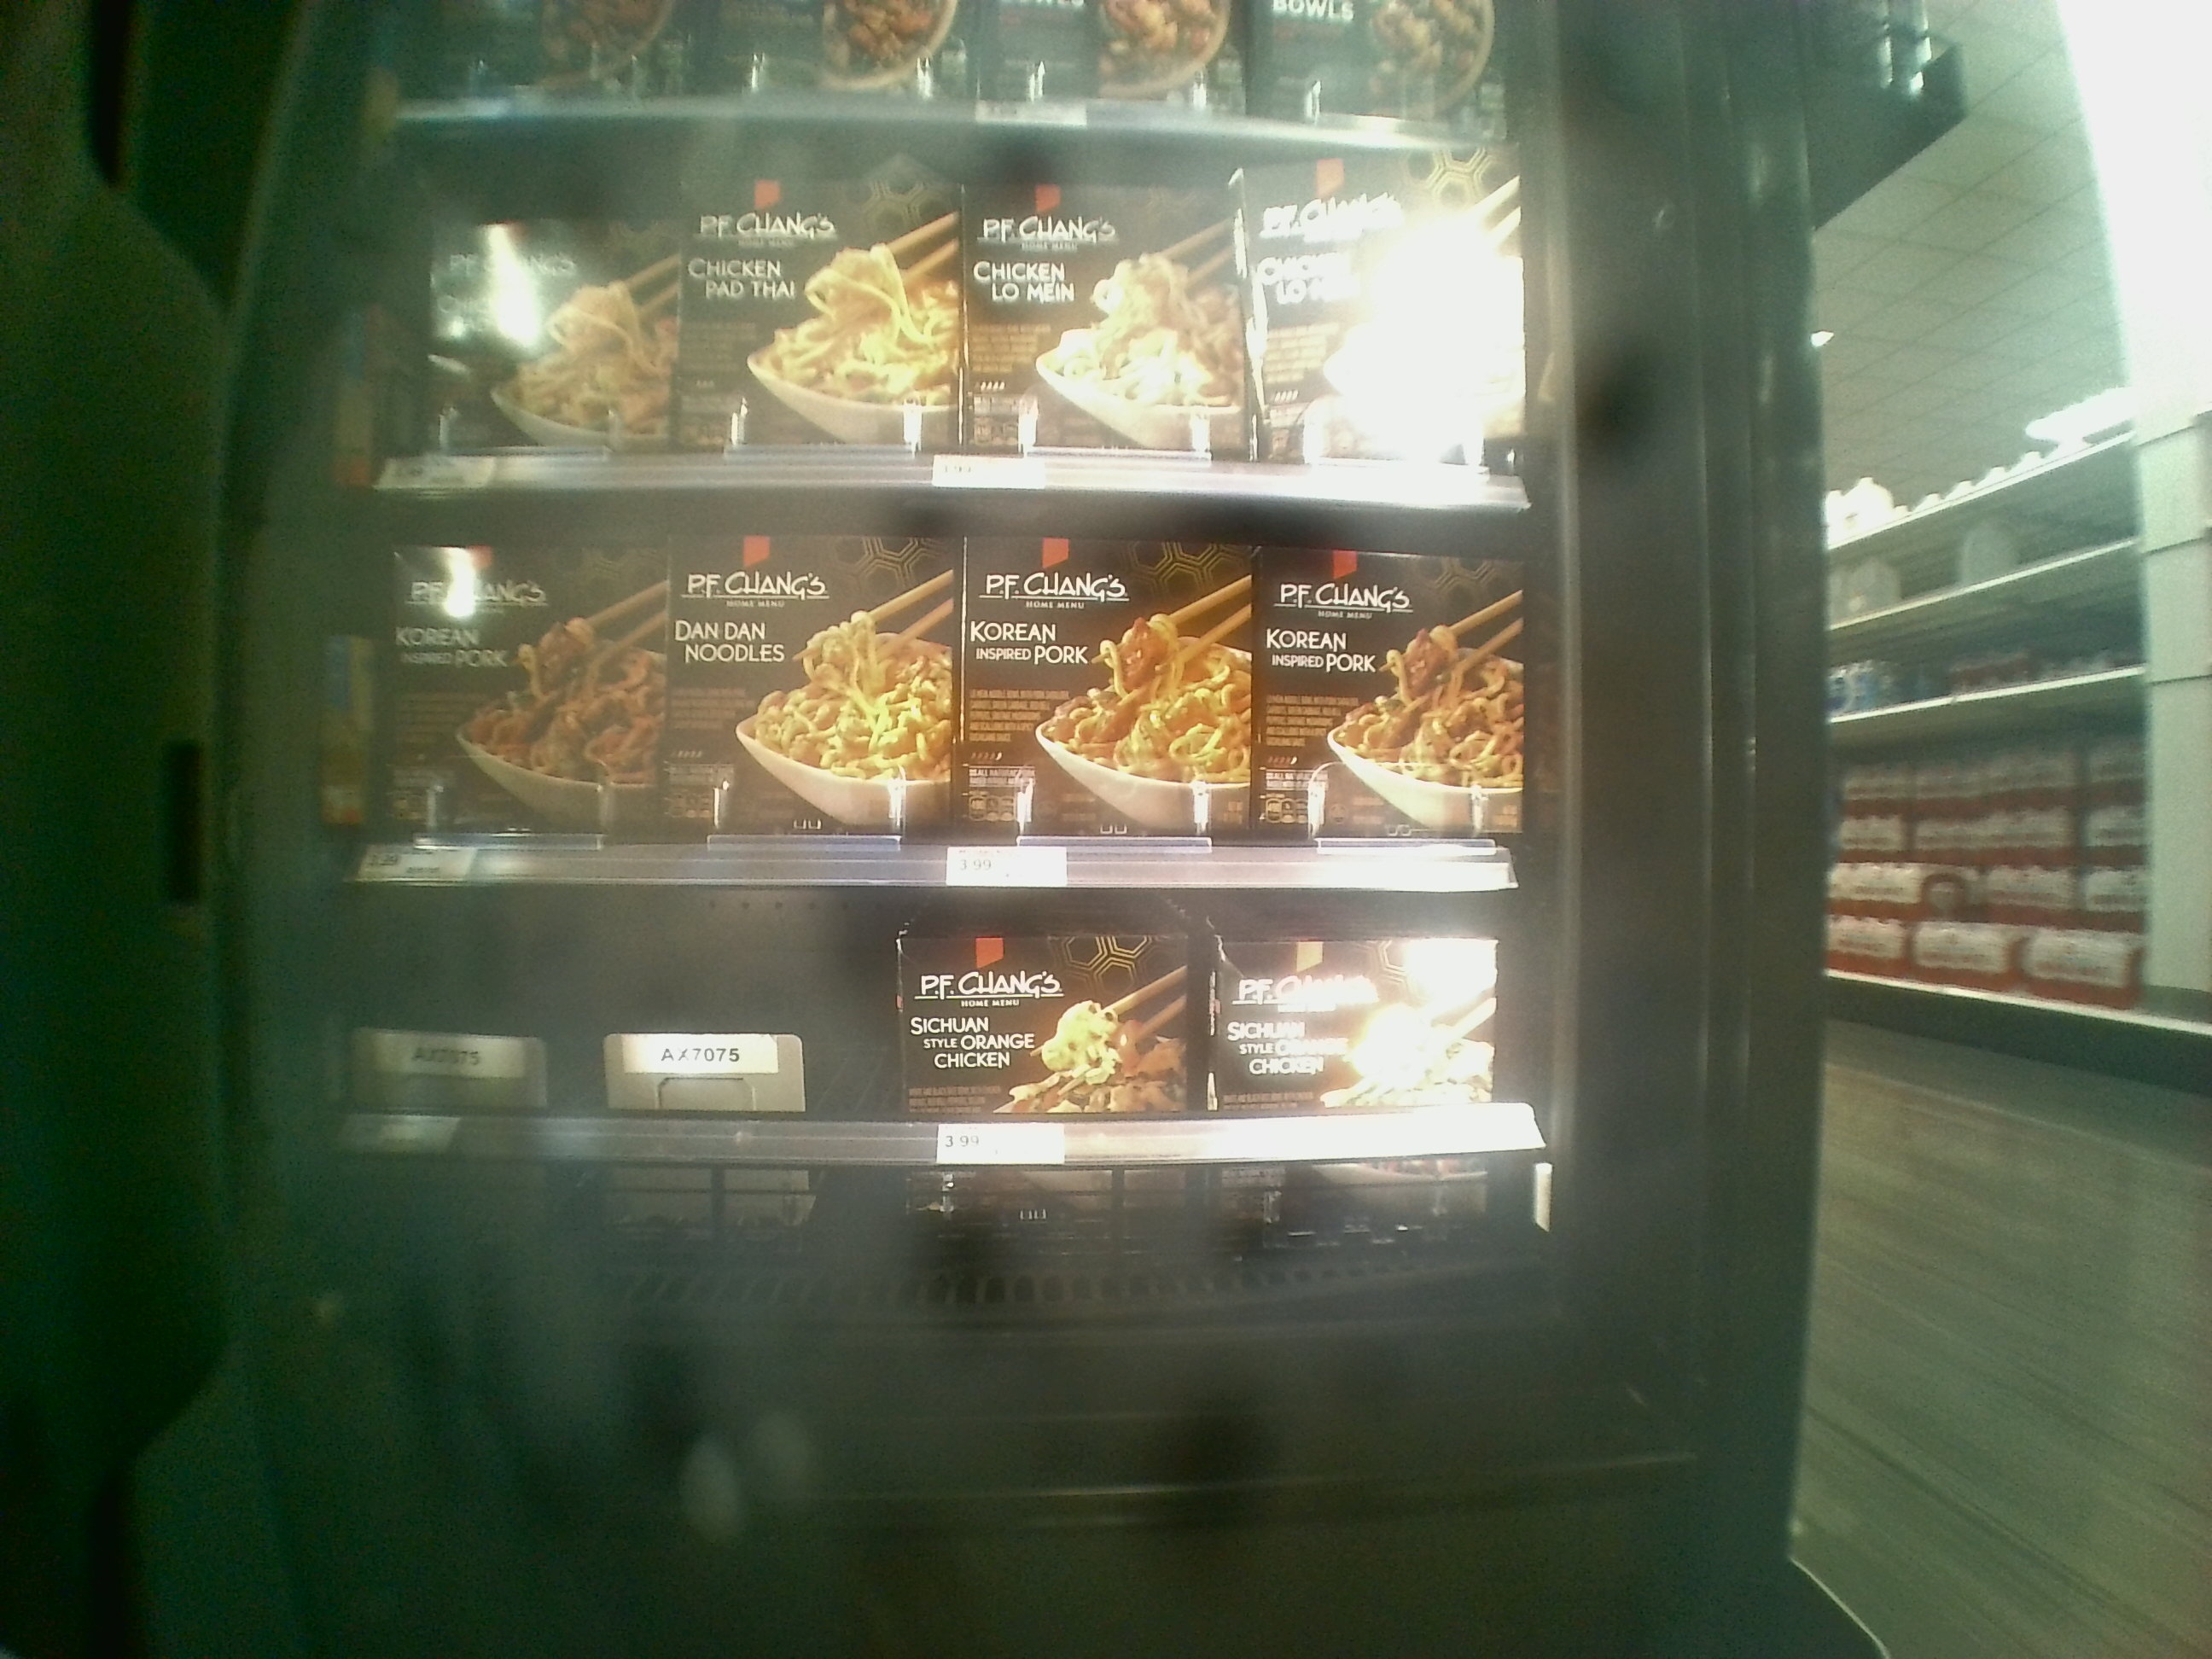shelf: (368, 483, 1527, 908), (347, 877, 1545, 1155)
